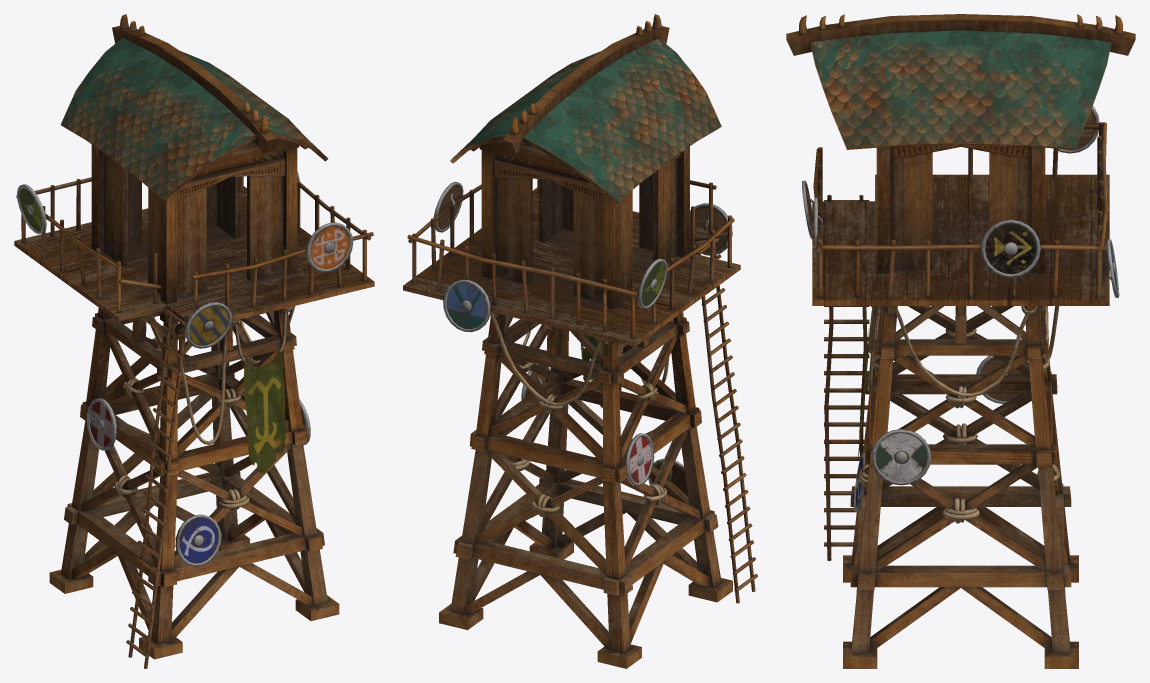
Rendered from vikingtower.glb.
3 renders of one model, left to right at view 1: azimuth 30°, elevation 25°; view 2: azimuth 150°, elevation 25°; view 3: azimuth 270°, elevation 25°, orthographic. The views are drawn at different scales.
Parts seen in each view (by area): view 1: primary beams_tower_0, decor_decorations_0; view 2: primary beams_tower_0, decor_decorations_0; view 3: primary beams_tower_0, decor_decorations_0.
Part boxes in pixels (x1,y1,x2,y2): primary beams_tower_0: [14, 14, 374, 668]; decor_decorations_0: [17, 171, 353, 566]; primary beams_tower_0: [403, 14, 757, 668]; decor_decorations_0: [433, 181, 732, 516]; primary beams_tower_0: [786, 14, 1135, 668]; decor_decorations_0: [802, 106, 1119, 523].
Bounding box in the file's own units: 4.48 × 9.68 × 5.07.
2 materials, 2 textured.
